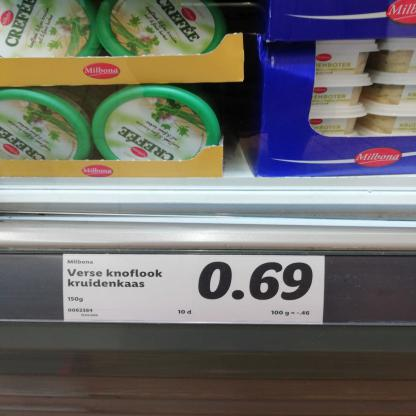prtg: (63, 256, 326, 326)
